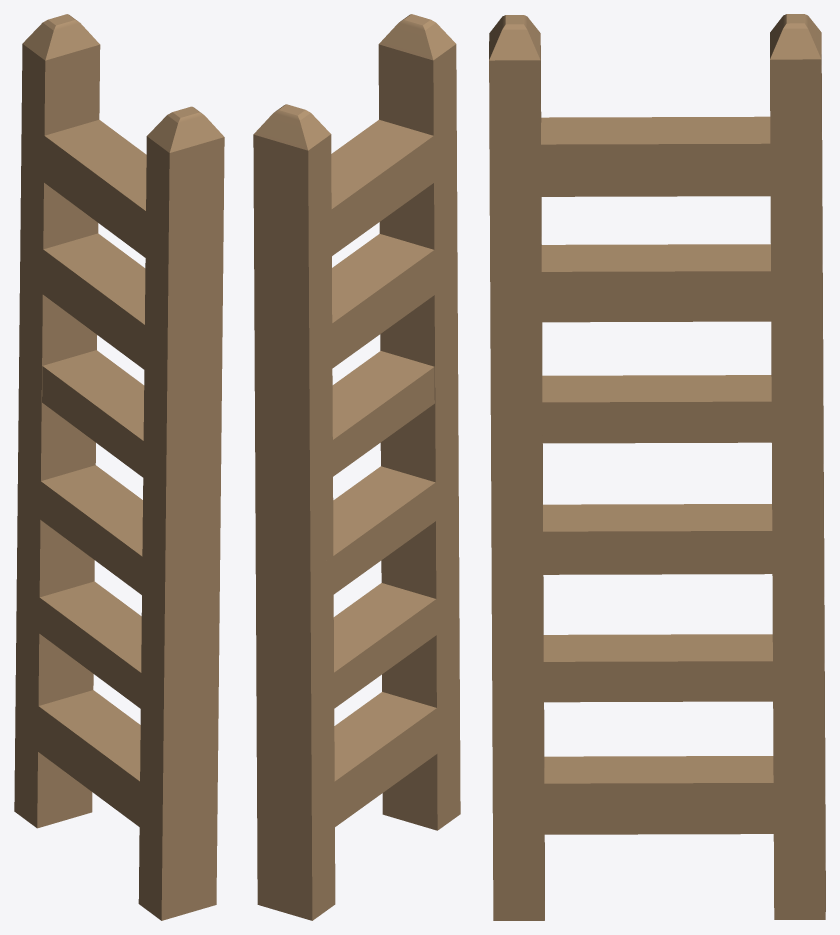
File: ladder.fbx
3 views of the same model, side by side, from view 1: azimuth 30°, elevation 25°; view 2: azimuth 150°, elevation 25°; view 3: azimuth 270°, elevation 25° (orthographic). The views are drawn at different scales.
Parts seen in each view (by area): view 1: ladder:pCube11; view 2: ladder:pCube11; view 3: ladder:pCube11.
Boxes of the visible parts, bbox=[...] form: ladder:pCube11: bbox=[14, 14, 224, 920]; ladder:pCube11: bbox=[253, 14, 460, 920]; ladder:pCube11: bbox=[489, 14, 825, 920].
Size of the model in its own units: 0.2473 by 3.06 by 1.04.
